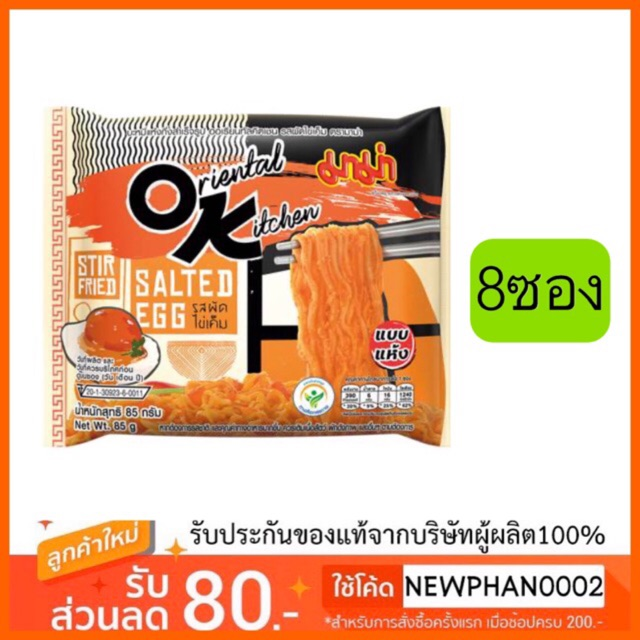Snack: (42, 95, 458, 460)
